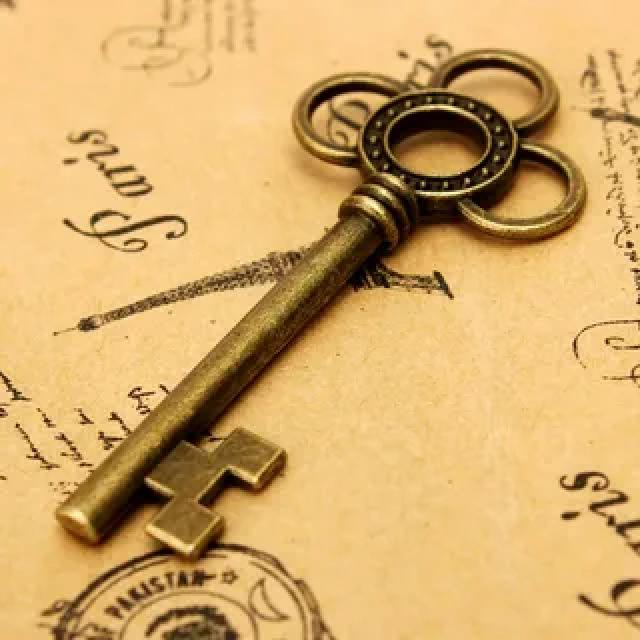key: (44, 40, 600, 562)
